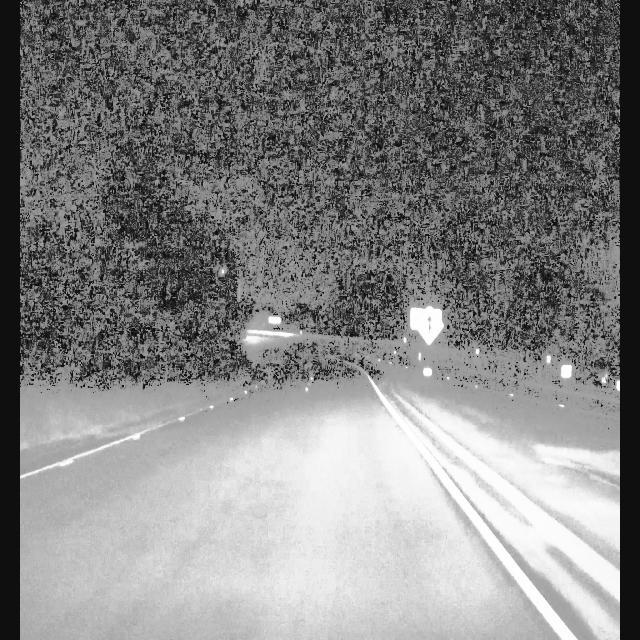Sign: (416, 306, 445, 344), (411, 308, 441, 332)
